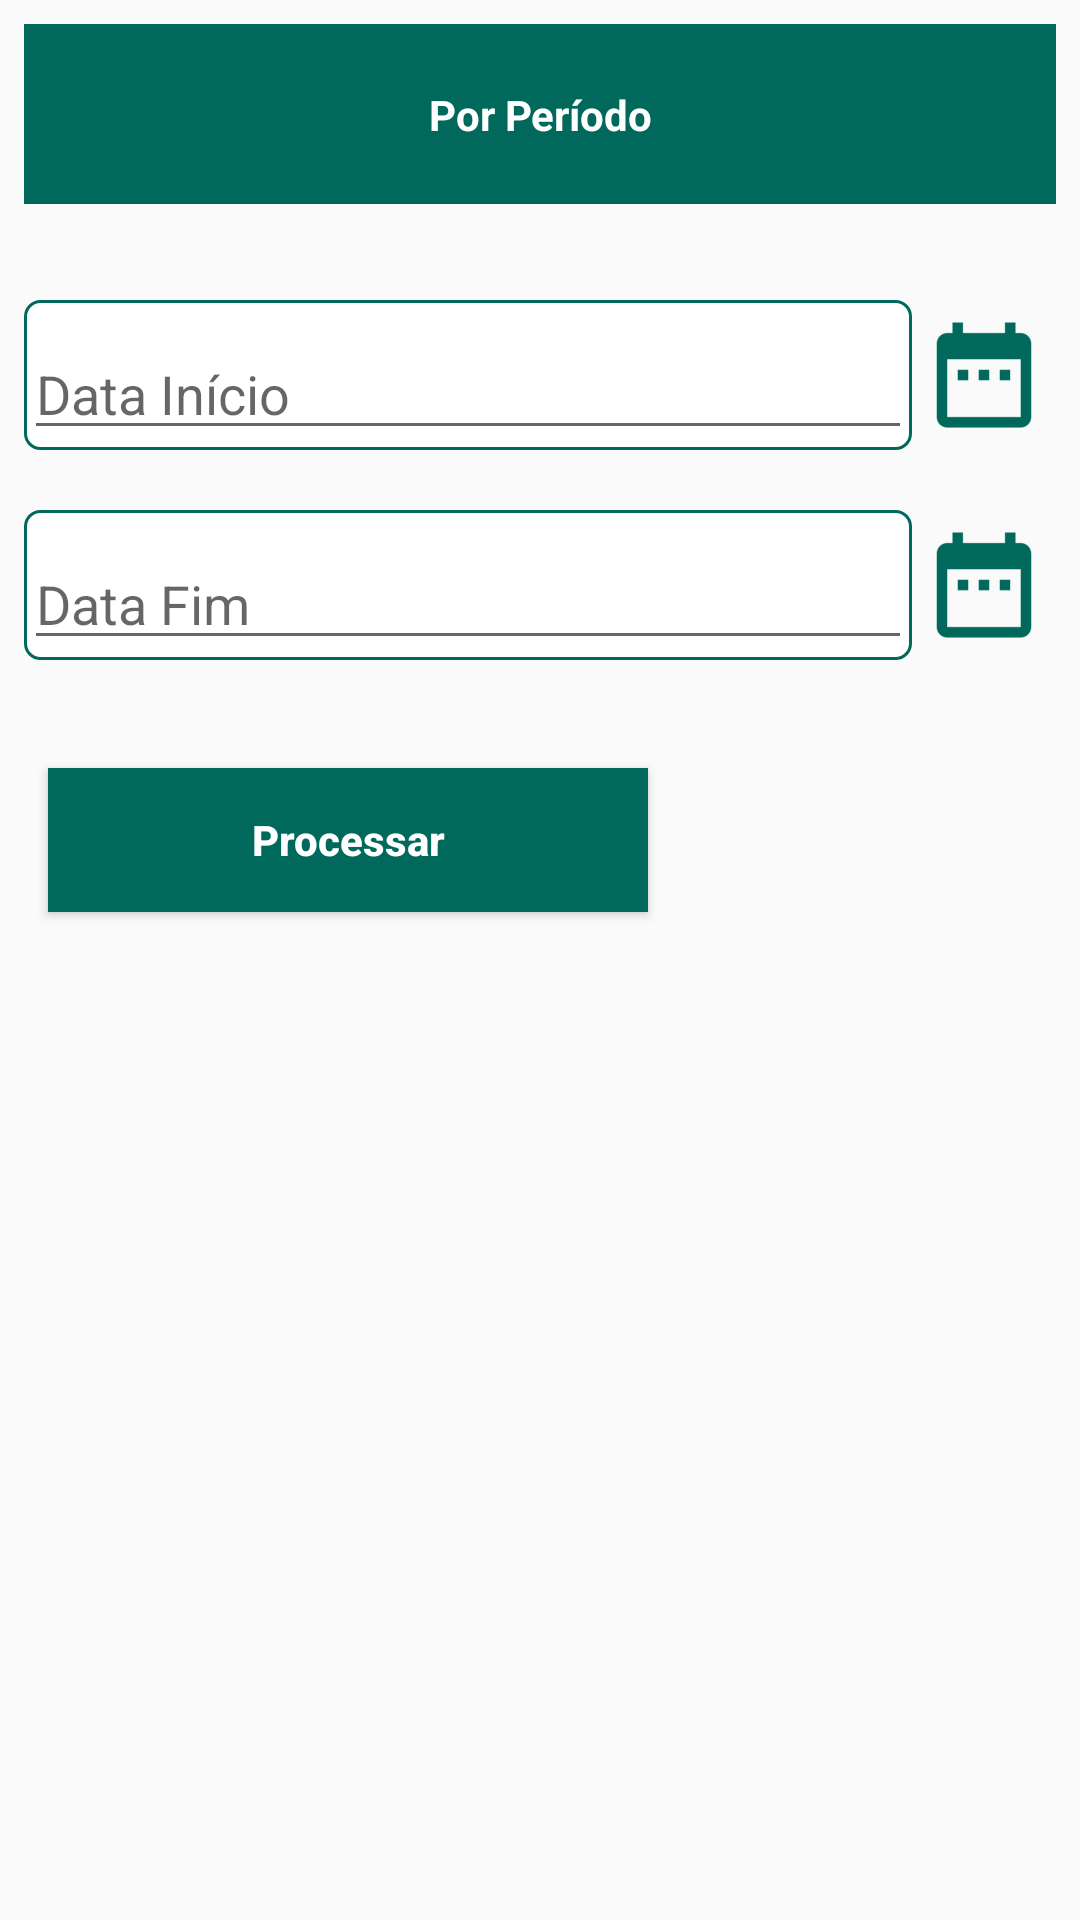

Screen size 1080*1920. Icon name, then its center in pixels as [x,y]:
calendar: [984,375], [984,585]
